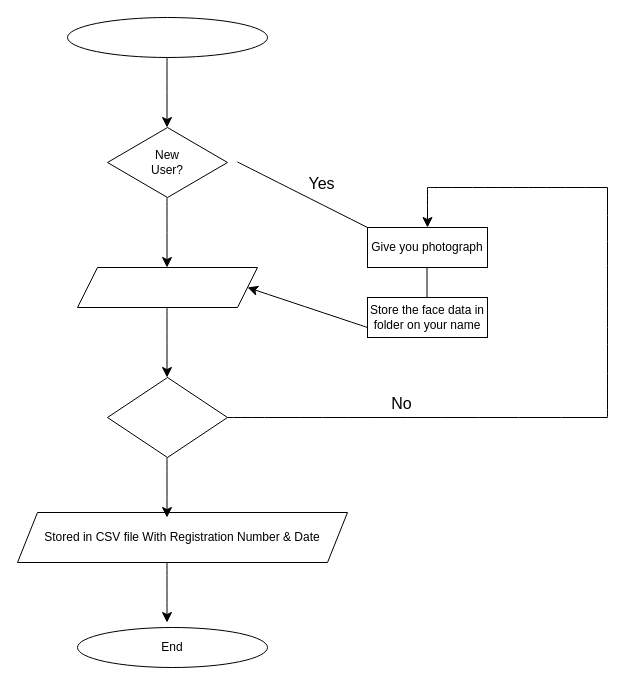
The diagram is 626 pixels wide and 685 high, and some of its shapes have lost their labels. Here are the shapes that lost their labels. From the top down, the box of each, then its label:
(66, 16, 268, 58): START
(76, 266, 258, 308): Recognise the face
(106, 376, 228, 458): Face Recognised
